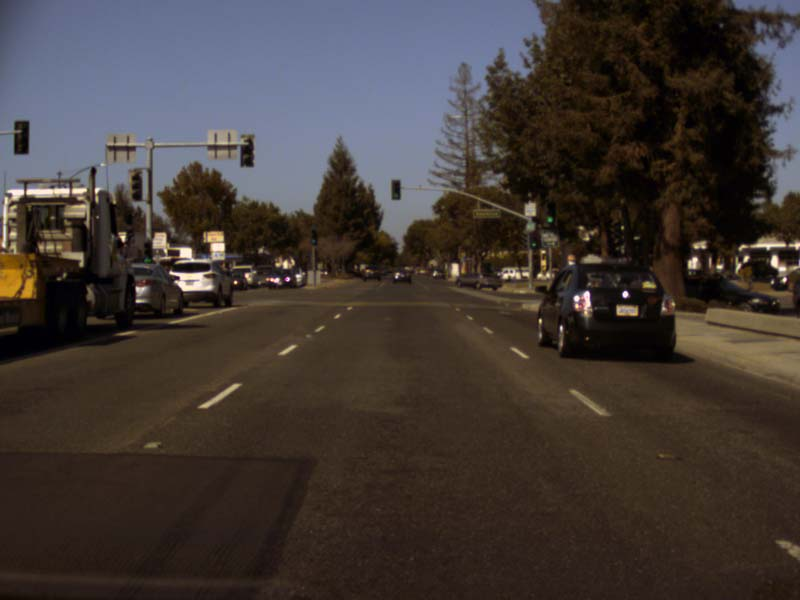Green: (390, 179, 401, 199), (545, 203, 555, 224), (529, 233, 538, 249), (144, 243, 151, 262), (310, 230, 317, 246)
